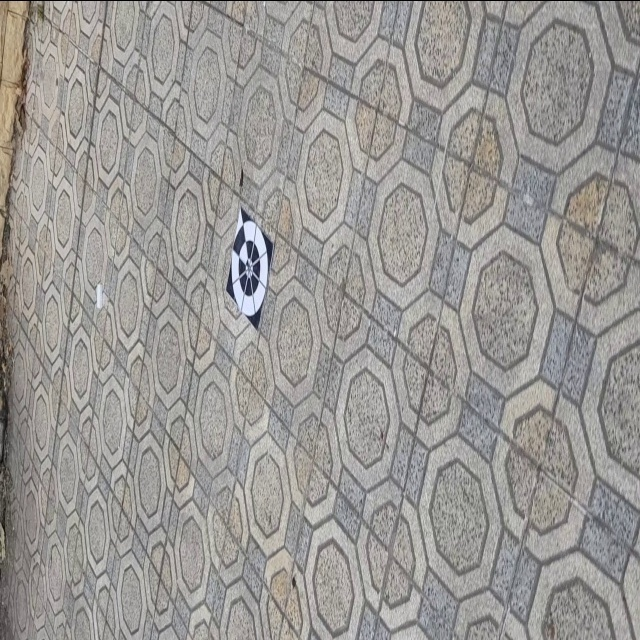landing-zone: (225, 203, 283, 332)
